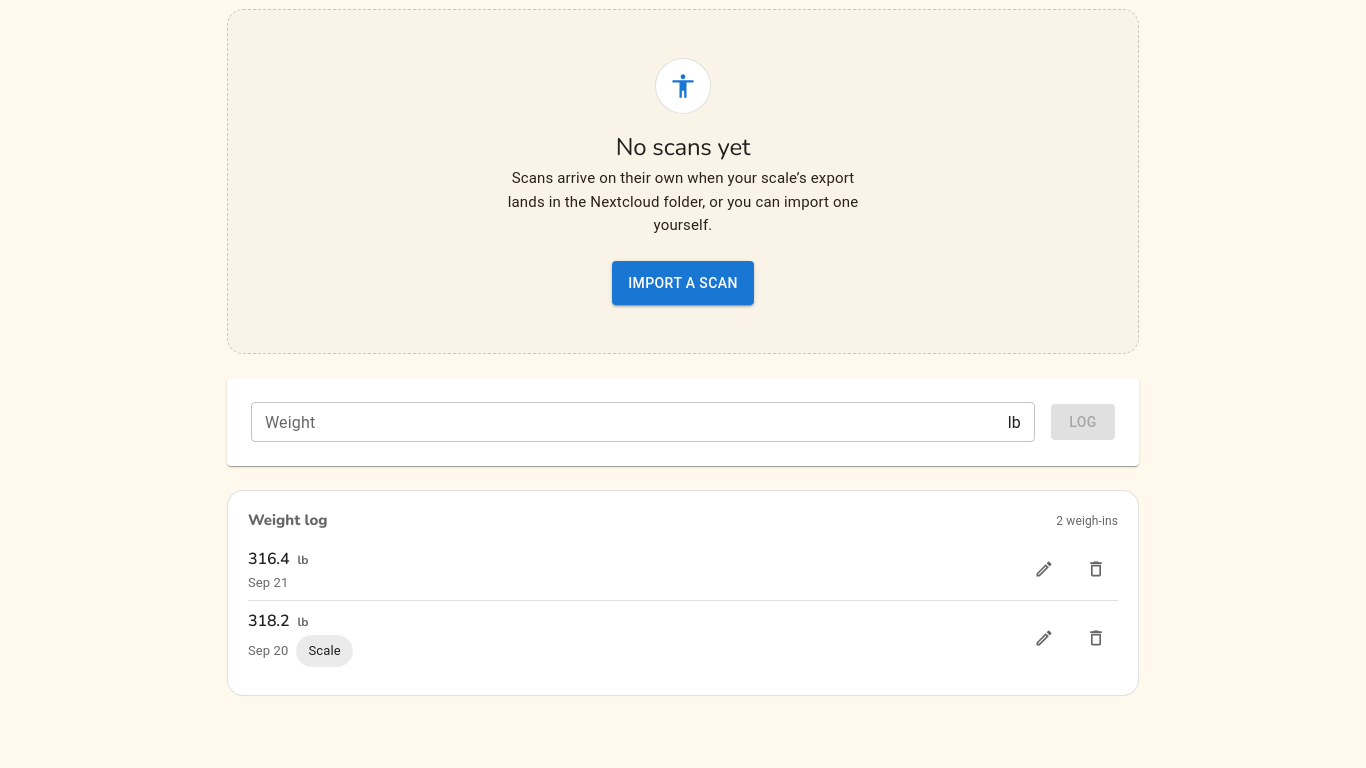
Weight & body page › a successful update refreshes the list in place (no page spinner)
The image size is (1366, 768).
(page scrolled)
Click the button named "edit the 316.4" at coordinates (1044, 569), box [1022,547,1066,591]
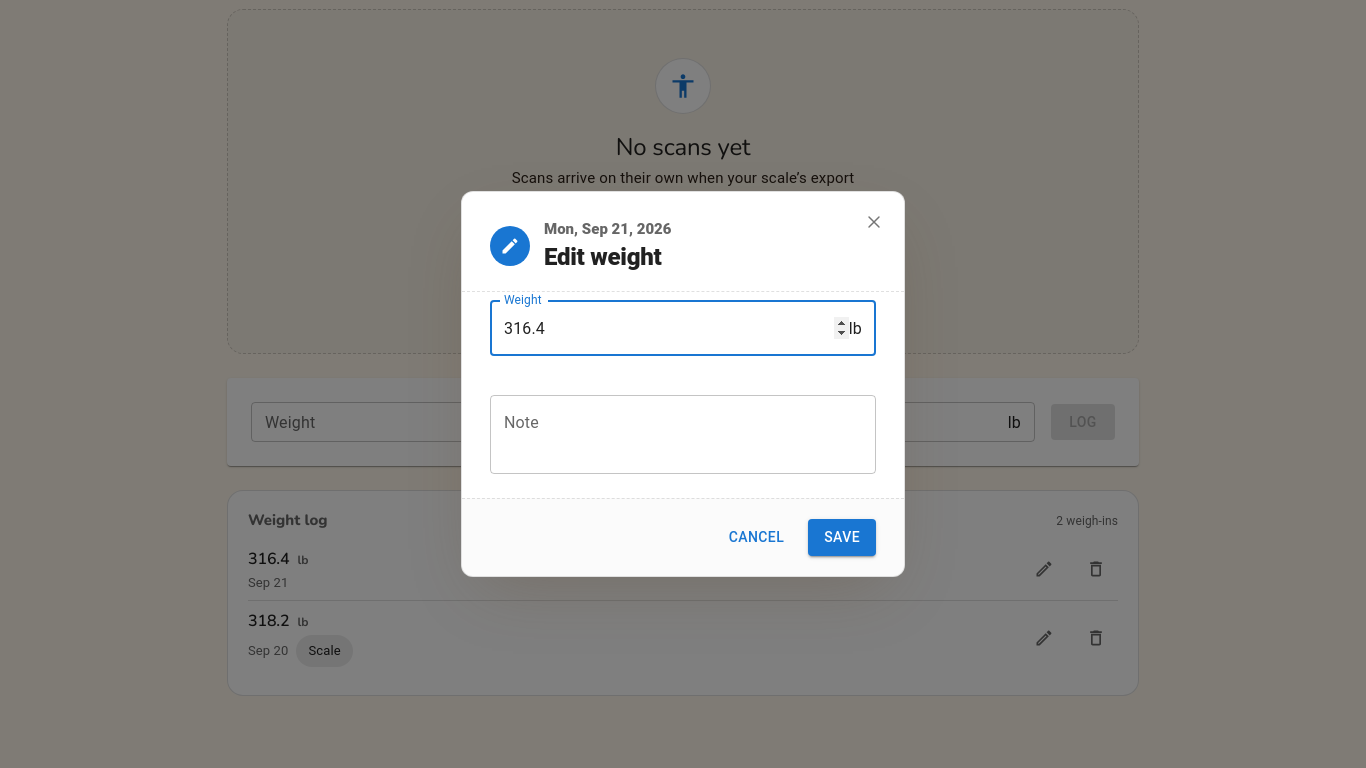
Click the button "Save" at coordinates (842, 538), box [808,519,876,556]
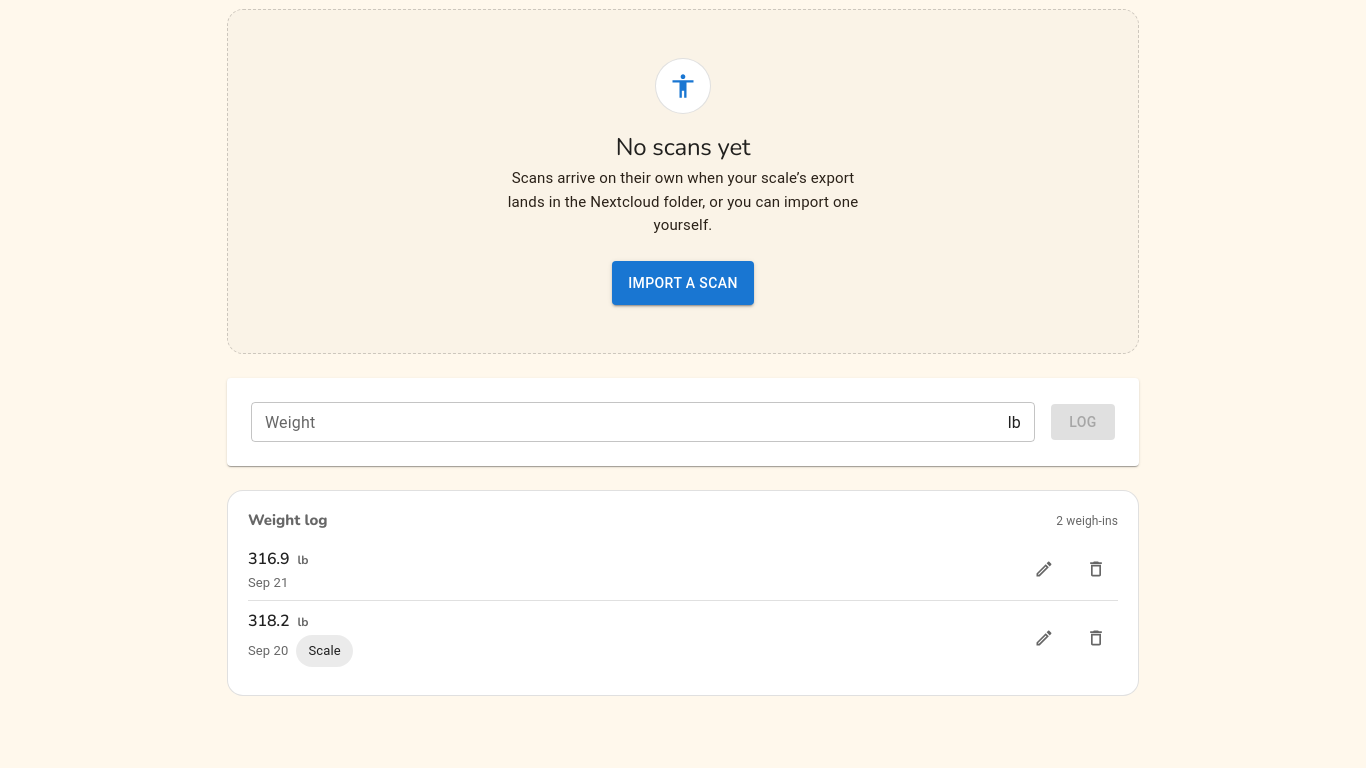
expect the number of list items with test id "weight-log-row" is 2: met, box [248,538,1118,601]; [248,601,1118,675]
expect the button named "edit the 316.9" is shown: met, box [1022,547,1066,591]
expect the dialog is gone: met
